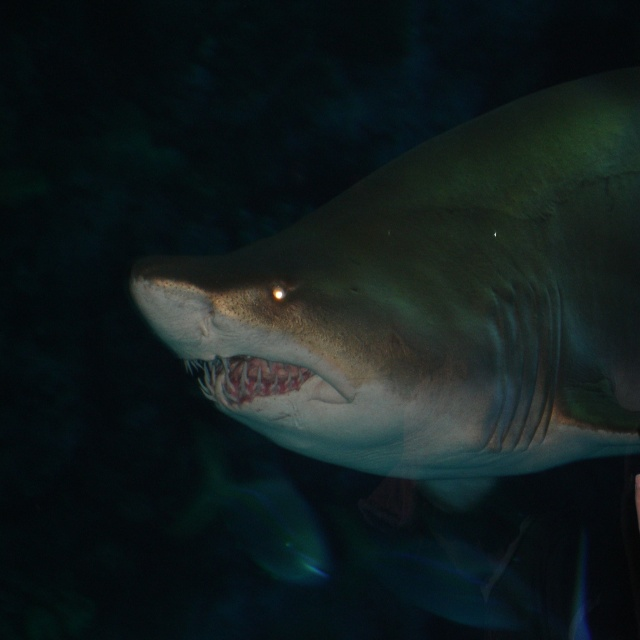Shark: (128, 65, 640, 516)
